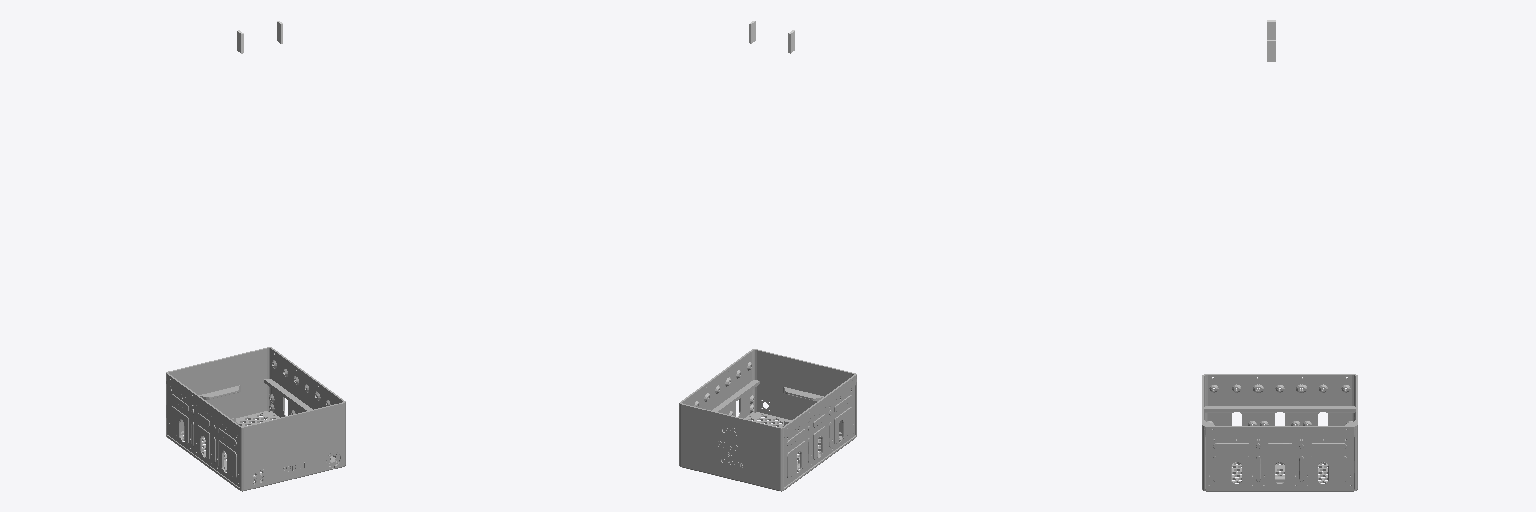
The robot description file, URDF, robot "gen3_robotiq_2f_140":
<?xml version="1.0" ?>
<!-- =================================================================================== -->
<!-- |    This document was autogenerated by xacro from gen3_robotiq_2f_140.xacro      | -->
<!-- |    EDITING THIS FILE BY HAND IS NOT RECOMMENDED                                 | -->
<!-- =================================================================================== -->
<robot name="gen3_robotiq_2f_140">
  <!-- Run the macros -->
  <link name="base_link">
    <inertial>
      <origin rpy="0 0 0" xyz="-0.000648 -0.000166 0.084487"/>
      <mass value="1.697"/>
      <inertia ixx="0.004622" ixy="9E-06" ixz="6E-05" iyy="0.004495" iyz="9E-06" izz="0.002079"/>
    </inertial>
    <visual>
      <origin rpy="0 0 0" xyz="0 0 0"/>
      <geometry>
        <mesh filename="meshes/base_link.STL"/>
      </geometry>
      <material name="gray">
        <color rgba="0.75294 0.75294 0.75294 1.0"/>
      </material>
    </visual>
    <collision>
      <origin rpy="0 0 0" xyz="0 0 0"/>
      <geometry>
        <mesh filename="meshes/base_link.STL"/>
      </geometry>
    </collision>
  </link>
  <link name="shoulder_link">
    <inertial>
      <origin rpy="0 0 0" xyz="-2.3E-05 -0.010364 -0.07336"/>
      <mass value="1.3773"/>
      <inertia ixx="0.00457" ixy="1E-06" ixz="2E-06" iyy="0.004831" iyz="0.000448" izz="0.001409"/>
    </inertial>
    <visual>
      <origin rpy="0 0 0" xyz="0 0 0"/>
      <geometry>
        <mesh filename="meshes/shoulder_link.STL"/>
      </geometry>
      <material name="gray">
        <color rgba="0.75294 0.75294 0.75294 1"/>
      </material>
    </visual>
    <collision>
      <origin rpy="0 0 0" xyz="0 0 0"/>
      <geometry>
        <mesh filename="meshes/shoulder_link.STL"/>
      </geometry>
    </collision>
  </link>
  <joint name="joint_1" type="continuous">
    <origin rpy="3.1416 2.7629E-18 -4.9305E-36" xyz="0 0 0.15643"/>
    <parent link="base_link"/>
    <child link="shoulder_link"/>
    <axis xyz="0 0 1"/>
    <limit effort="39" velocity="1.3963"/>
  </joint>
  <link name="half_arm_1_link">
    <inertial>
      <origin rpy="0 0 0" xyz="-4.4E-05 -0.09958 -0.013278"/>
      <mass value="1.1636"/>
      <inertia ixx="0.011088" ixy="5E-06" ixz="0" iyy="0.001072" iyz="-0.000691" izz="0.011255"/>
    </inertial>
    <visual>
      <origin rpy="0 0 0" xyz="0 0 0"/>
      <geometry>
        <mesh filename="meshes/half_arm_1_link.STL"/>
      </geometry>
      <material name="gray">
        <color rgba="0.75294 0.75294 0.75294 1"/>
      </material>
    </visual>
    <collision>
      <origin rpy="0 0 0" xyz="0 0 0"/>
      <geometry>
        <mesh filename="meshes/half_arm_1_link.STL"/>
      </geometry>
    </collision>
  </link>
  <joint name="joint_2" type="revolute">
    <origin rpy="1.5708 2.1343E-17 -1.1102E-16" xyz="0 0.005375 -0.12838"/>
    <parent link="shoulder_link"/>
    <child link="half_arm_1_link"/>
    <axis xyz="0 0 1"/>
    <limit effort="39" lower="-2.24" upper="2.24" velocity="1.3963"/>
  </joint>
  <link name="half_arm_2_link">
    <inertial>
      <origin rpy="0 0 0" xyz="-4.4E-05 -0.006641 -0.117892"/>
      <mass value="1.1636"/>
      <inertia ixx="0.010932" ixy="0" ixz="-7E-06" iyy="0.011127" iyz="0.000606" izz="0.001043"/>
    </inertial>
    <visual>
      <origin rpy="0 0 0" xyz="0 0 0"/>
      <geometry>
        <mesh filename="meshes/half_arm_2_link.STL"/>
      </geometry>
      <material name="gray">
        <color rgba="0.75294 0.75294 0.75294 1"/>
      </material>
    </visual>
    <collision>
      <origin rpy="0 0 0" xyz="0 0 0"/>
      <geometry>
        <mesh filename="meshes/half_arm_2_link.STL"/>
      </geometry>
    </collision>
  </link>
  <joint name="joint_3" type="continuous">
    <origin rpy="-1.5708 1.2326E-32 -2.9122E-16" xyz="0 -0.21038 -0.006375"/>
    <parent link="half_arm_1_link"/>
    <child link="half_arm_2_link"/>
    <axis xyz="0 0 1"/>
    <limit effort="39" velocity="1.3963"/>
  </joint>
  <link name="forearm_link">
    <inertial>
      <origin rpy="0 0 0" xyz="-1.8E-05 -0.075478 -0.015006"/>
      <mass value="0.9302"/>
      <inertia ixx="0.008147" ixy="-1E-06" ixz="0" iyy="0.000631" iyz="-0.0005" izz="0.008316"/>
    </inertial>
    <visual>
      <origin rpy="0 0 0" xyz="0 0 0"/>
      <geometry>
        <mesh filename="meshes/forearm_link.STL"/>
      </geometry>
      <material name="gray">
        <color rgba="0.75294 0.75294 0.75294 1"/>
      </material>
    </visual>
    <collision>
      <origin rpy="0 0 0" xyz="0 0 0"/>
      <geometry>
        <mesh filename="meshes/forearm_link.STL"/>
      </geometry>
    </collision>
  </link>
  <joint name="joint_4" type="revolute">
    <origin rpy="1.5708 -6.6954E-17 -1.6653E-16" xyz="0 0.006375 -0.21038"/>
    <parent link="half_arm_2_link"/>
    <child link="forearm_link"/>
    <axis xyz="0 0 1"/>
    <limit effort="39" lower="-2.57" upper="2.57" velocity="1.3963"/>
  </joint>
  <link name="spherical_wrist_1_link">
    <inertial>
      <origin rpy="0 0 0" xyz="1E-06 -0.009432 -0.063883"/>
      <mass value="0.6781"/>
      <inertia ixx="0.001596" ixy="0" ixz="0" iyy="0.001607" iyz="0.000256" izz="0.000399"/>
    </inertial>
    <visual>
      <origin rpy="0 0 0" xyz="0 0 0"/>
      <geometry>
        <mesh filename="meshes/spherical_wrist_1_link.STL"/>
      </geometry>
      <material name="gray">
        <color rgba="0.75294 0.75294 0.75294 1"/>
      </material>
    </visual>
    <collision>
      <origin rpy="0 0 0" xyz="0 0 0"/>
      <geometry>
        <mesh filename="meshes/spherical_wrist_1_link.STL"/>
      </geometry>
    </collision>
  </link>
  <joint name="joint_5" type="continuous">
    <origin rpy="-1.5708 2.2204E-16 -6.373E-17" xyz="0 -0.20843 -0.006375"/>
    <parent link="forearm_link"/>
    <child link="spherical_wrist_1_link"/>
    <axis xyz="0 0 1"/>
    <limit effort="9" velocity="1.2218"/>
  </joint>
  <link name="spherical_wrist_2_link">
    <inertial>
      <origin rpy="0 0 0" xyz="1E-06 -0.045483 -0.00965"/>
      <mass value="0.6781"/>
      <inertia ixx="0.001641" ixy="0" ixz="0" iyy="0.00041" iyz="-0.000278" izz="0.001641"/>
    </inertial>
    <visual>
      <origin rpy="0 0 0" xyz="0 0 0"/>
      <geometry>
        <mesh filename="meshes/spherical_wrist_2_link.STL"/>
      </geometry>
      <material name="gray">
        <color rgba="0.75294 0.75294 0.75294 1"/>
      </material>
    </visual>
    <collision>
      <origin rpy="0 0 0" xyz="0 0 0"/>
      <geometry>
        <mesh filename="meshes/spherical_wrist_2_link.STL"/>
      </geometry>
    </collision>
  </link>
  <joint name="joint_6" type="revolute">
    <origin rpy="1.5708 9.2076E-28 -8.2157E-15" xyz="0 0.00017505 -0.10593"/>
    <parent link="spherical_wrist_1_link"/>
    <child link="spherical_wrist_2_link"/>
    <axis xyz="0 0 1"/>
    <limit effort="9" lower="-2.09" upper="2.09" velocity="1.2218"/>
  </joint>
  <link name="bracelet_link">
    <inertial>
      <origin rpy="0 0 0" xyz="0.000281 0.011402 -0.029798"/>
      <mass value="0.5"/>
      <inertia ixx="0.000587" ixy="3E-06" ixz="3E-06" iyy="0.000369" iyz="-0.000118" izz="0.000609"/>
    </inertial>
    <visual>
      <origin rpy="0 0 0" xyz="0 0 0"/>
      <geometry>
        <mesh filename="meshes/bracelet_with_vision_link.STL"/>
      </geometry>
      <material name="gray">
        <color rgba="0.75294 0.75294 0.75294 1"/>
      </material>
    </visual>
    <collision>
      <origin rpy="0 0 0" xyz="0 0 0"/>
      <geometry>
        <mesh filename="meshes/bracelet_with_vision_link.STL"/>
      </geometry>
    </collision>
  </link>
  <joint name="joint_7" type="continuous">
    <origin rpy="-1.5708 -5.5511E-17 9.6396E-17" xyz="0 -0.10593 -0.00017505"/>
    <parent link="spherical_wrist_2_link"/>
    <child link="bracelet_link"/>
    <axis xyz="0 0 1"/>
    <limit effort="9" velocity="1.2218"/>
  </joint>
  <link name="end_effector_link"/>
  <joint name="end_effector" type="fixed">
    <origin rpy="3.14159265358979 1.09937075168372E-32 0" xyz="0 0 -0.0615250000000001"/>
    <parent link="bracelet_link"/>
    <child link="end_effector_link"/>
    <axis xyz="0 0 0"/>
  </joint>
  <link name="camera_link"/>
  <joint name="camera_module" type="fixed">
    <origin rpy="3.14159265358979 3.14159265358979 0" xyz="0 0.05639 -0.00305"/>
    <parent link="end_effector_link"/>
    <child link="camera_link"/>
  </joint>
  <link name="camera_depth_frame"/>
  <joint name="depth_module" type="fixed">
    <origin rpy="3.14159265358979 3.14159265358979 0" xyz="0.0275 0.066 -0.00305"/>
    <parent link="end_effector_link"/>
    <child link="camera_depth_frame"/>
  </joint>
  <link name="camera_color_frame"/>
  <joint name="color_module" type="fixed">
    <origin rpy="3.14159265358979 3.14159265358979 0" xyz="0 0.05639 -0.00305"/>
    <parent link="end_effector_link"/>
    <child link="camera_color_frame"/>
  </joint>
  <!-- Tool frame used by the arm -->
  <link name="tool_frame"/>
  <joint name="tool_frame_joint" type="fixed">
    <origin rpy="0 0 0" xyz="0 0 0.20"/>
    <parent link="end_effector_link"/>
    <child link="tool_frame"/>
    <axis xyz="0 0 0"/>
  </joint>
  <!-- This joint was added by Kinova -->
  <joint name="gripper_base_joint" type="fixed">
    <parent link="end_effector_link"/>
    <child link="robotiq_arg2f_base_link"/>
    <origin rpy="0.0 0.0 1.57" xyz="0.0 0.0 0.0"/>
  </joint>
  <link name="robotiq_arg2f_base_link">
    <inertial>
      <origin rpy="0 0 0" xyz="8.625E-08 -4.6583E-06 0.03145"/>
      <mass value="0.22652"/>
      <inertia ixx="0.00020005" ixy="-4.2442E-10" ixz="-2.9069E-10" iyy="0.00017832" iyz="-3.4402E-08" izz="0.00013478"/>
    </inertial>
    <visual>
      <origin rpy="0 0 0" xyz="0 0 0"/>
      <geometry>
        <!-- The DAE file doesn't show well in Gazebo so we're using the STL instead -->
        <!-- <mesh filename="package://kortex_description/grippers/robotiq_2f_140/meshes/visual/robotiq_arg2f_140_base_link.dae" scale="0.001 0.001 0.001"/> -->
        <mesh filename="meshes/collision/robotiq_arg2f_base_link_140.stl"/>
      </geometry>
      <material name="black">
        <color rgba="0.1 0.1 0.1 1"/>
      </material>
    </visual>
    <collision>
      <origin rpy="0 0 0" xyz="0 0 0"/>
      <geometry>
        <mesh filename="meshes/collision/robotiq_arg2f_base_link_140.stl"/>
      </geometry>
    </collision>
  </link>
  <gazebo reference="robotiq_arg2f_base_link">
    <material>Gazebo/Black</material>
  </gazebo>
  <link name="left_outer_knuckle">
    <inertial>
      <origin rpy="0 0 0" xyz="-0.000200000000003065 0.0199435877845359 0.0292245259211331"/>
      <mass value="0.00853198276973456"/>
      <inertia ixx="2.89328108496468E-06" ixy="-1.57935047237397E-19" ixz="-1.93980378593255E-19" iyy="1.86719750325683E-06" iyz="-1.21858577871576E-06" izz="1.21905238907251E-06"/>
    </inertial>
    <visual>
      <origin rpy="0 0 0" xyz="0 0 0"/>
      <geometry>
        <mesh filename="meshes/visual/robotiq_arg2f_140_outer_knuckle.stl"/>
      </geometry>
      <material name="white">
        <color rgba="0.792156862745098 0.819607843137255 0.933333333333333 1"/>
      </material>
    </visual>
    <collision>
      <origin rpy="0 0 0" xyz="0 0 0"/>
      <geometry>
        <mesh filename="meshes/collision/robotiq_arg2f_140_outer_knuckle.stl"/>
      </geometry>
    </collision>
  </link>
  <gazebo reference="left_outer_knuckle">
    <visual>
      <material>
        <ambient>0.792156862745098 0.819607843137255 0.933333333333333 1</ambient>
        <diffuse>0.792156862745098 0.819607843137255 0.933333333333333 1</diffuse>
      </material>
    </visual>
  </gazebo>
  <link name="left_outer_finger">
    <inertial>
      <origin rpy="0 0 0" xyz="0.00030115855001899 0.0373907951953854 -0.0208027427000385"/>
      <mass value="0.022614240507152"/>
      <inertia ixx="1.52518312458174E-05" ixy="9.76583423954399E-10" ixz="-5.43838577022588E-10" iyy="6.17694243867776E-06" iyz="6.78636130740228E-06" izz="1.16494917907219E-05"/>
    </inertial>
    <visual>
      <origin rpy="0 0 0" xyz="0 0 0"/>
      <geometry>
        <mesh filename="meshes/visual/robotiq_arg2f_140_outer_finger.stl"/>
      </geometry>
      <material name="black">
        <color rgba="0.1 0.1 0.1 1"/>
      </material>
    </visual>
    <collision>
      <origin rpy="0 0 0" xyz="0 0 0"/>
      <geometry>
        <mesh filename="meshes/collision/robotiq_arg2f_140_outer_finger.stl"/>
      </geometry>
    </collision>
  </link>
  <gazebo reference="left_outer_finger">
    <material>Gazebo/Black</material>
  </gazebo>
  <link name="left_inner_finger">
    <inertial>
      <origin rpy="0 0 0" xyz="0.000299999999999317 0.0160078233491243 -0.0136945669206257"/>
      <mass value="0.0104003125914103"/>
      <inertia ixx="2.71909453810972E-06" ixy="1.35402465472579E-21" ixz="-7.1817349065269E-22" iyy="7.69100314106116E-07" iyz="6.74715432769696E-07" izz="2.30315190420171E-06"/>
    </inertial>
    <visual>
      <origin rpy="0 0 0" xyz="0 0 0"/>
      <geometry>
        <mesh filename="meshes/visual/robotiq_arg2f_140_inner_finger.stl"/>
      </geometry>
      <material name="black">
        <color rgba="0.1 0.1 0.1 1"/>
      </material>
    </visual>
    <collision>
      <origin rpy="0 0 0" xyz="0 0 0"/>
      <geometry>
        <mesh filename="meshes/collision/robotiq_arg2f_140_inner_finger.stl"/>
      </geometry>
    </collision>
  </link>
  <gazebo reference="left_inner_finger">
    <material>Gazebo/Black</material>
  </gazebo>
  <link name="left_inner_finger_pad">
    <visual>
      <origin rpy="0 0 0" xyz="0 0 0"/>
      <geometry>
        <box size="0.027 0.065 0.0075"/>
      </geometry>
      <material name="white">
        <color rgba="0.9 0.9 0.9 1"/>
      </material>
    </visual>
    <collision>
      <origin rpy="0 0 0" xyz="0 0 0"/>
      <geometry>
        <box size="0.03 0.07 0.0075"/>
      </geometry>
      <material name="red">
        <color rgba="0.9 0.0 0.0 1"/>
      </material>
    </collision>
  </link>
  <link name="left_inner_knuckle">
    <inertial>
      <origin rpy="0 0 0" xyz="0.000123011831763771 0.0507850843201817 0.00103968640075166"/>
      <mass value="0.0271177346495152"/>
      <inertia ixx="2.61910379223783E-05" ixy="-2.43616858946494E-07" ixz="-6.37789906117123E-09" iyy="2.8270243746167E-06" iyz="-5.37200748039765E-07" izz="2.83695868220296E-05"/>
    </inertial>
    <visual>
      <origin rpy="0 0 0" xyz="0 0 0"/>
      <geometry>
        <mesh filename="meshes/visual/robotiq_arg2f_140_inner_knuckle.stl"/>
      </geometry>
      <material name="black">
        <color rgba="0.1 0.1 0.1 1"/>
      </material>
    </visual>
    <collision>
      <origin rpy="0 0 0" xyz="0 0 0"/>
      <geometry>
        <mesh filename="meshes/collision/robotiq_arg2f_140_inner_knuckle.stl"/>
      </geometry>
    </collision>
  </link>
  <gazebo reference="left_inner_knuckle">
    <material>Gazebo/Black</material>
  </gazebo>
  <link name="right_outer_knuckle">
    <inertial>
      <origin rpy="0 0 0" xyz="-0.000200000000003065 0.0199435877845359 0.0292245259211331"/>
      <mass value="0.00853198276973456"/>
      <inertia ixx="2.89328108496468E-06" ixy="-1.57935047237397E-19" ixz="-1.93980378593255E-19" iyy="1.86719750325683E-06" iyz="-1.21858577871576E-06" izz="1.21905238907251E-06"/>
    </inertial>
    <visual>
      <origin rpy="0 0 0" xyz="0 0 0"/>
      <geometry>
        <mesh filename="meshes/visual/robotiq_arg2f_140_outer_knuckle.stl"/>
      </geometry>
      <material name="white">
        <color rgba="0.792156862745098 0.819607843137255 0.933333333333333 1"/>
      </material>
    </visual>
    <collision>
      <origin rpy="0 0 0" xyz="0 0 0"/>
      <geometry>
        <mesh filename="meshes/collision/robotiq_arg2f_140_outer_knuckle.stl"/>
      </geometry>
    </collision>
  </link>
  <gazebo reference="right_outer_knuckle">
    <visual>
      <material>
        <ambient>0.792156862745098 0.819607843137255 0.933333333333333 1</ambient>
        <diffuse>0.792156862745098 0.819607843137255 0.933333333333333 1</diffuse>
      </material>
    </visual>
  </gazebo>
  <link name="right_outer_finger">
    <inertial>
      <origin rpy="0 0 0" xyz="0.00030115855001899 0.0373907951953854 -0.0208027427000385"/>
      <mass value="0.022614240507152"/>
      <inertia ixx="1.52518312458174E-05" ixy="9.76583423954399E-10" ixz="-5.43838577022588E-10" iyy="6.17694243867776E-06" iyz="6.78636130740228E-06" izz="1.16494917907219E-05"/>
    </inertial>
    <visual>
      <origin rpy="0 0 0" xyz="0 0 0"/>
      <geometry>
        <mesh filename="meshes/visual/robotiq_arg2f_140_outer_finger.stl"/>
      </geometry>
      <material name="black">
        <color rgba="0.1 0.1 0.1 1"/>
      </material>
    </visual>
    <collision>
      <origin rpy="0 0 0" xyz="0 0 0"/>
      <geometry>
        <mesh filename="meshes/collision/robotiq_arg2f_140_outer_finger.stl"/>
      </geometry>
    </collision>
  </link>
  <gazebo reference="right_outer_finger">
    <material>Gazebo/Black</material>
  </gazebo>
  <link name="right_inner_finger">
    <inertial>
      <origin rpy="0 0 0" xyz="0.000299999999999317 0.0160078233491243 -0.0136945669206257"/>
      <mass value="0.0104003125914103"/>
      <inertia ixx="2.71909453810972E-06" ixy="1.35402465472579E-21" ixz="-7.1817349065269E-22" iyy="7.69100314106116E-07" iyz="6.74715432769696E-07" izz="2.30315190420171E-06"/>
    </inertial>
    <visual>
      <origin rpy="0 0 0" xyz="0 0 0"/>
      <geometry>
        <mesh filename="meshes/visual/robotiq_arg2f_140_inner_finger.stl"/>
      </geometry>
      <material name="black">
        <color rgba="0.1 0.1 0.1 1"/>
      </material>
    </visual>
    <collision>
      <origin rpy="0 0 0" xyz="0 0 0"/>
      <geometry>
        <mesh filename="meshes/collision/robotiq_arg2f_140_inner_finger.stl"/>
      </geometry>
    </collision>
  </link>
  <gazebo reference="right_inner_finger">
    <material>Gazebo/Black</material>
  </gazebo>
  <link name="right_inner_finger_pad">
    <visual>
      <origin rpy="0 0 0" xyz="0 0 0"/>
      <geometry>
        <box size="0.027 0.065 0.0075"/>
      </geometry>
      <material name="white">
        <color rgba="0.9 0.9 0.9 1"/>
      </material>
    </visual>
    <collision>
      <origin rpy="0 0 0" xyz="0 0 0"/>
      <geometry>
        <box size="0.03 0.07 0.0075"/>
      </geometry>
      <material name="white">
        <color rgba="0.9 0.0 0.0 1"/>
      </material>
    </collision>
  </link>
  <link name="right_inner_knuckle">
    <inertial>
      <origin rpy="0 0 0" xyz="0.000123011831763771 0.0507850843201817 0.00103968640075166"/>
      <mass value="0.0271177346495152"/>
      <inertia ixx="2.61910379223783E-05" ixy="-2.43616858946494E-07" ixz="-6.37789906117123E-09" iyy="2.8270243746167E-06" iyz="-5.37200748039765E-07" izz="2.83695868220296E-05"/>
    </inertial>
    <visual>
      <origin rpy="0 0 0" xyz="0 0 0"/>
      <geometry>
        <mesh filename="meshes/visual/robotiq_arg2f_140_inner_knuckle.stl"/>
      </geometry>
      <material name="black">
        <color rgba="0.1 0.1 0.1 1"/>
      </material>
    </visual>
    <collision>
      <origin rpy="0 0 0" xyz="0 0 0"/>
      <geometry>
        <mesh filename="meshes/collision/robotiq_arg2f_140_inner_knuckle.stl"/>
      </geometry>
    </collision>
  </link>
  <gazebo reference="right_inner_knuckle">
    <material>Gazebo/Black</material>
  </gazebo>
  <joint name="finger_joint" type="revolute">
    <origin rpy="2.2957963267948966 0 0" xyz="0 -0.030601 0.054905"/>
    <parent link="robotiq_arg2f_base_link"/>
    <child link="left_outer_knuckle"/>
    <axis xyz="-1 0 0"/>
    <limit effort="1000" lower="0" upper="0.7" velocity="2.0"/>
  </joint>
  <joint name="left_outer_finger_joint" type="fixed">
    <origin rpy="0 0 0" xyz="0 0.01821998610742 0.0260018192872234"/>
    <parent link="left_outer_knuckle"/>
    <child link="left_outer_finger"/>
    <axis xyz="1 0 0"/>
  </joint>
  <joint name="left_inner_knuckle_joint" type="revolute">
    <origin rpy="2.2957963267948966 0 0.0" xyz="0 -0.0127 0.06142"/>
    <parent link="robotiq_arg2f_base_link"/>
    <child link="left_inner_knuckle"/>
    <axis xyz="1 0 0"/>
    <limit effort="1000" lower="-0.8757" upper="0.8757" velocity="2.0"/>
    <mimic joint="finger_joint" multiplier="-1" offset="0"/>
  </joint>
  <joint name="left_inner_finger_joint" type="revolute">
    <origin rpy="-0.725 0 0" xyz="0 0.0817554015893473 -0.0282203446692936"/>
    <parent link="left_outer_finger"/>
    <child link="left_inner_finger"/>
    <axis xyz="1 0 0"/>
    <limit effort="1000" lower="-0.8757" upper="0.8757" velocity="2.0"/>
    <mimic joint="finger_joint" multiplier="1" offset="0"/>
  </joint>
  <joint name="left_inner_finger_pad_joint" type="fixed">
    <origin rpy="0 0 0" xyz="0 0.0457554015893473 -0.0272203446692936"/>
    <parent link="left_inner_finger"/>
    <child link="left_inner_finger_pad"/>
    <axis xyz="0 0 1"/>
  </joint>
  <joint name="right_outer_knuckle_joint" type="revolute">
    <origin rpy="2.2957963267948966 0 3.141592653589793" xyz="0 0.030601 0.054905"/>
    <parent link="robotiq_arg2f_base_link"/>
    <child link="right_outer_knuckle"/>
    <axis xyz="1 0 0"/>
    <limit effort="1000" lower="-0.725" upper="0.725" velocity="2.0"/>
    <mimic joint="finger_joint" multiplier="-1" offset="0"/>
  </joint>
  <joint name="right_outer_finger_joint" type="fixed">
    <origin rpy="0 0 0" xyz="0 0.01821998610742 0.0260018192872234"/>
    <parent link="right_outer_knuckle"/>
    <child link="right_outer_finger"/>
    <axis xyz="1 0 0"/>
  </joint>
  <joint name="right_inner_knuckle_joint" type="revolute">
    <origin rpy="2.2957963267948966 0 -3.141592653589793" xyz="0 0.0127 0.06142"/>
    <parent link="robotiq_arg2f_base_link"/>
    <child link="right_inner_knuckle"/>
    <axis xyz="1 0 0"/>
    <limit effort="1000" lower="-0.8757" upper="0.8757" velocity="2.0"/>
    <mimic joint="finger_joint" multiplier="-1" offset="0"/>
  </joint>
  <joint name="right_inner_finger_joint" type="revolute">
    <origin rpy="-0.725 0 0" xyz="0 0.0817554015893473 -0.0282203446692936"/>
    <parent link="right_outer_finger"/>
    <child link="right_inner_finger"/>
    <axis xyz="1 0 0"/>
    <limit effort="1000" lower="-0.8757" upper="0.8757" velocity="2.0"/>
    <mimic joint="finger_joint" multiplier="1" offset="0"/>
  </joint>
  <joint name="right_inner_finger_pad_joint" type="fixed">
    <origin rpy="0 0 0" xyz="0 0.0457554015893473 -0.0272203446692936"/>
    <parent link="right_inner_finger"/>
    <child link="right_inner_finger_pad"/>
    <axis xyz="0 0 1"/>
  </joint>
  <!-- Transmissions are loaded in the generic kortex xacro when simulation is enabled -->
  <!-- <xacro:robotiq_arg2f_transmission prefix="${prefix}"/> -->
</robot>

--- Render facts (derived) ---
3 views of the same robot in one strip: view 1: azimuth 30°, elevation 25°; view 2: azimuth 150°, elevation 25°; view 3: azimuth 270°, elevation 25° (orthographic).
Robot: gen3_robotiq_2f_140 — 24 links, 23 joints (9 revolute, 4 continuous, 10 fixed); root link base_link; default pose: all joints at 0.
Visible links, largest first — view 1: base_link; view 2: base_link; view 3: base_link.
Boxes of the visible links, x1=… form: base_link: x1=166, y1=347, x2=345, y2=491; base_link: x1=679, y1=349, x2=856, y2=491; base_link: x1=1202, y1=374, x2=1357, y2=491.
Bounding box of the posed robot: 0.362 × 0.452 × 1.4 m (x, y, z).
Meshes: 13 distinct files referenced, 1 mesh visuals loaded (1 binary STL); not drawn: 16 (reference not matched to a file when rendering).